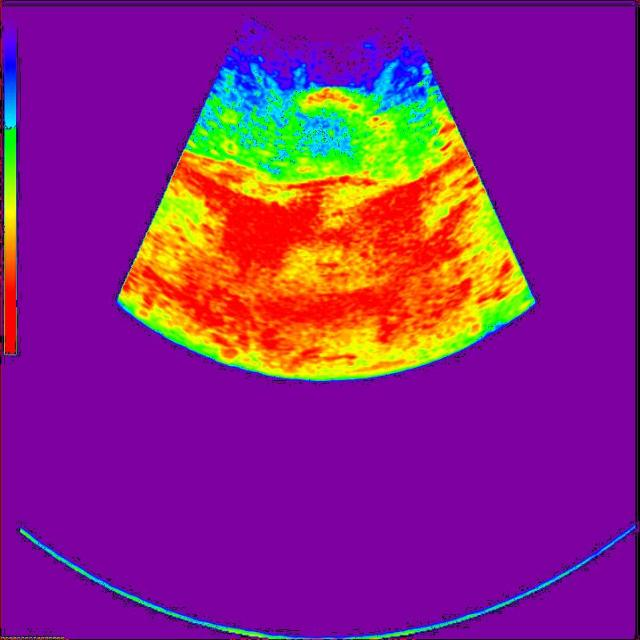chicken muscle pre: (269, 87, 391, 184)
